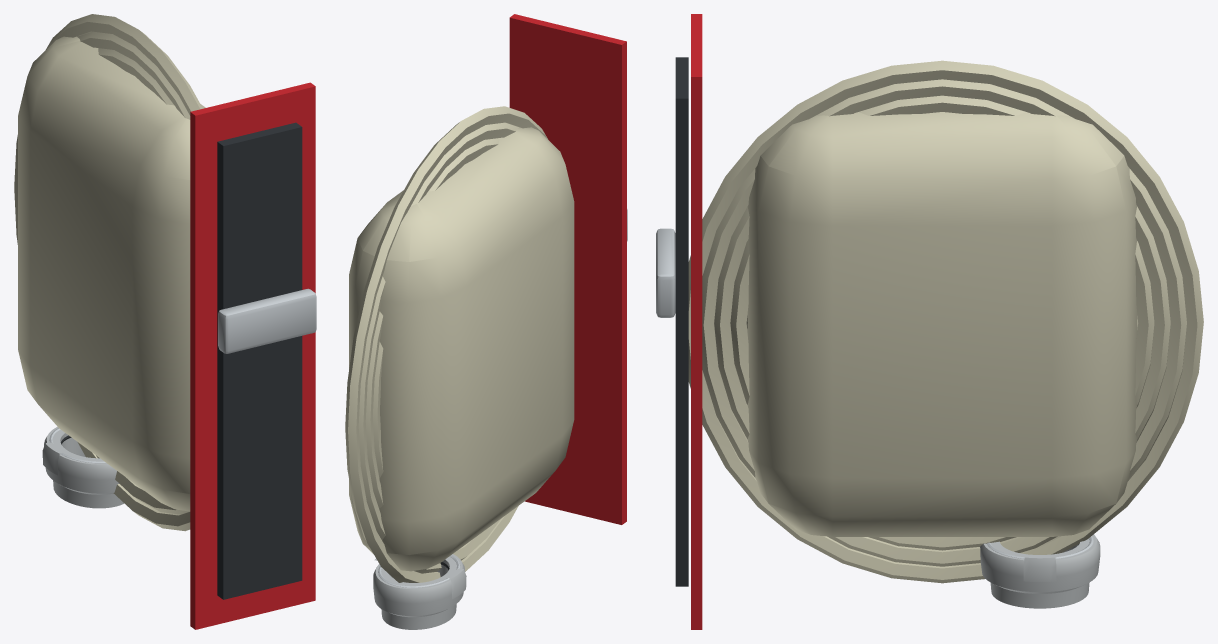
The model's file is ob_closed_case_g5_1.glb.
3 views of the same model, side by side, from view 1: azimuth 30°, elevation 25°; view 2: azimuth 150°, elevation 25°; view 3: azimuth 270°, elevation 25° (orthographic). The views are drawn at different scales.
Visible parts, largest first — view 1: ob_closed_case_g5_1; view 2: ob_closed_case_g5_1; view 3: ob_closed_case_g5_1.
Boxes of the visible parts, x1=… form: ob_closed_case_g5_1: x1=14, y1=14, x2=316, y2=629; ob_closed_case_g5_1: x1=345, y1=14, x2=627, y2=629; ob_closed_case_g5_1: x1=656, y1=14, x2=1203, y2=629.
Size of the model in its own units: 0.12 by 0.49 by 0.44.
